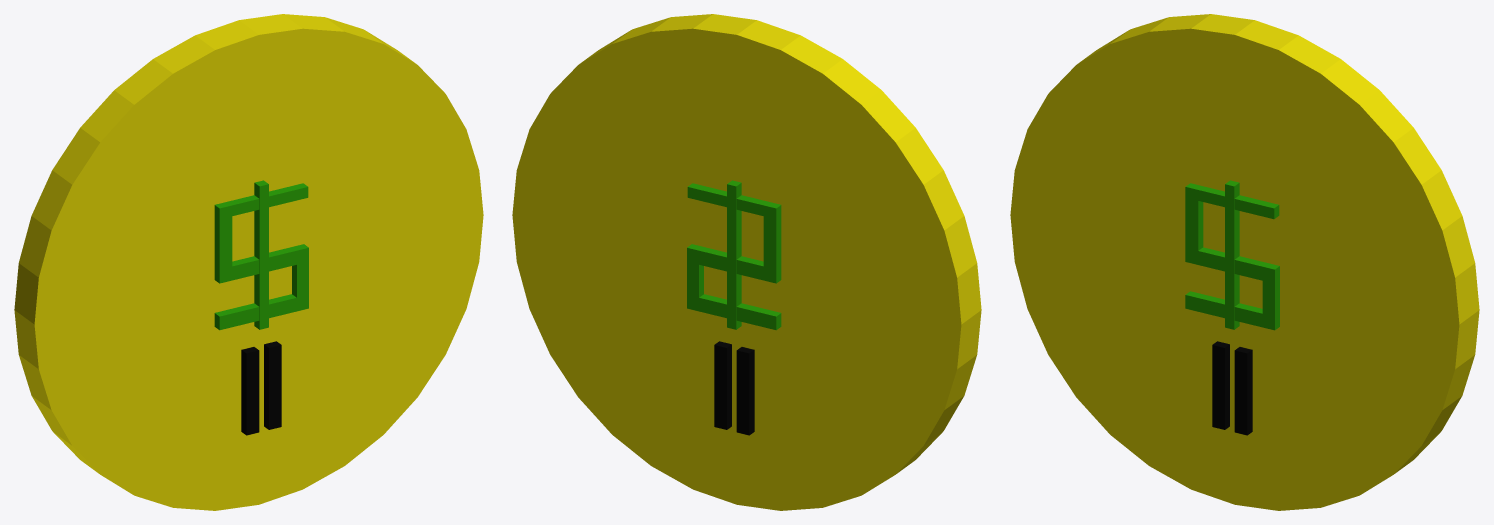
Rendered from GoldRoom2.fbx.
3 renders of one model, left to right at view 1: azimuth 30°, elevation 25°; view 2: azimuth 150°, elevation 25°; view 3: azimuth 330°, elevation 25°, orthographic.
Parts seen in each view (by area): view 1: Cylinder, Cube, Cube.001; view 2: Cylinder, Cube, Cube.001; view 3: Cylinder, Cube.001, Cube.
Part boxes in pixels (bbox=[...]): Cylinder: bbox=[14, 14, 483, 510]; Cube: bbox=[241, 347, 259, 435]; Cube.001: bbox=[264, 341, 281, 429]; Cylinder: bbox=[512, 14, 981, 510]; Cube: bbox=[736, 347, 754, 435]; Cube.001: bbox=[714, 341, 731, 429]; Cylinder: bbox=[1010, 14, 1479, 510]; Cube.001: bbox=[1234, 347, 1252, 435]; Cube: bbox=[1212, 341, 1229, 429].
Bounding box in the file's own units: 200 × 200 × 23.55.
